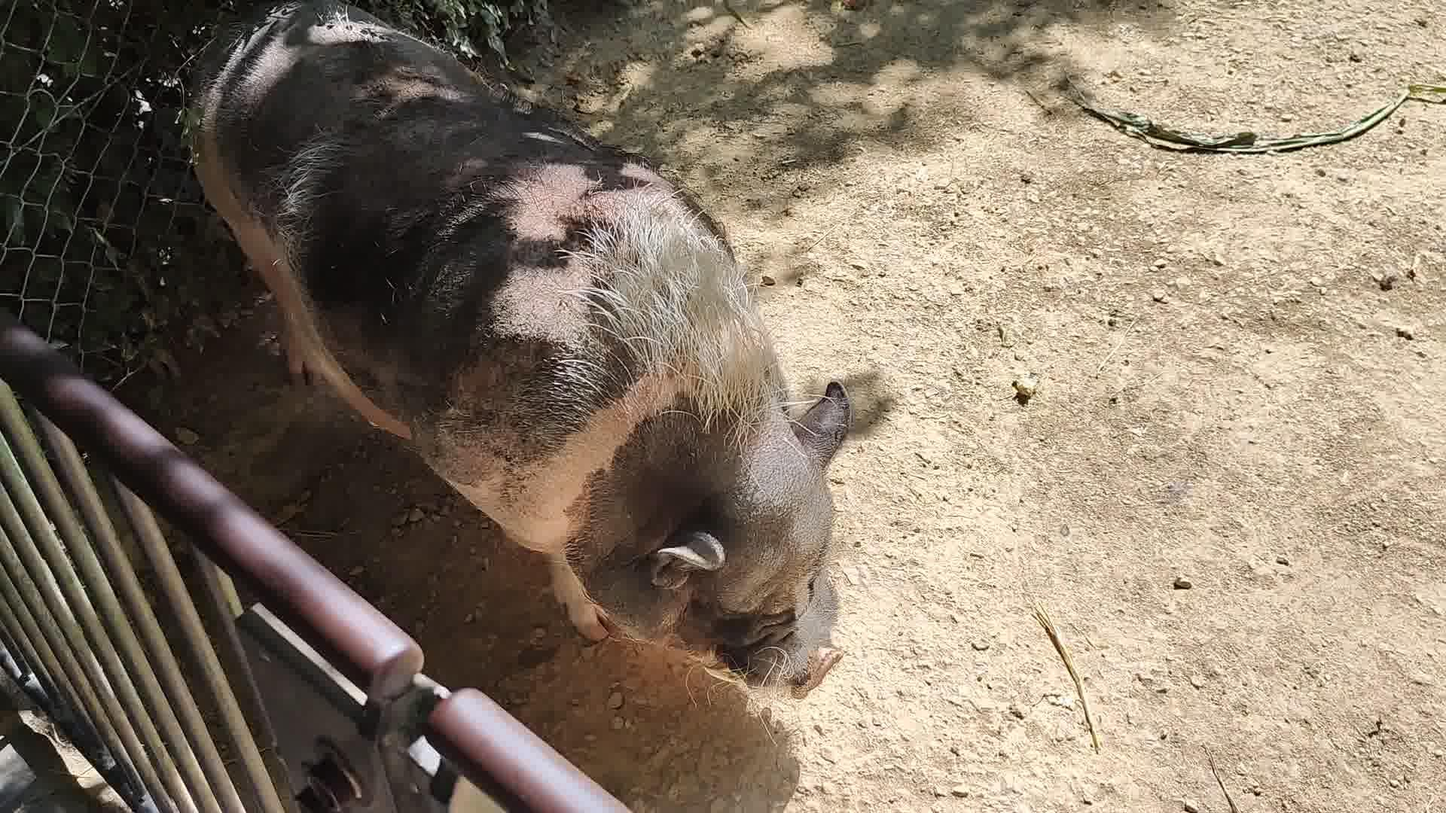bear: (185, 0, 851, 708)
